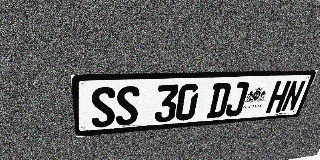0: (175, 84, 200, 121)
3: (154, 84, 179, 123)
D: (206, 83, 232, 118)
H: (265, 81, 292, 113)
J: (224, 82, 250, 117)
N: (280, 80, 307, 112)
S: (90, 87, 115, 128), (116, 86, 140, 126)
